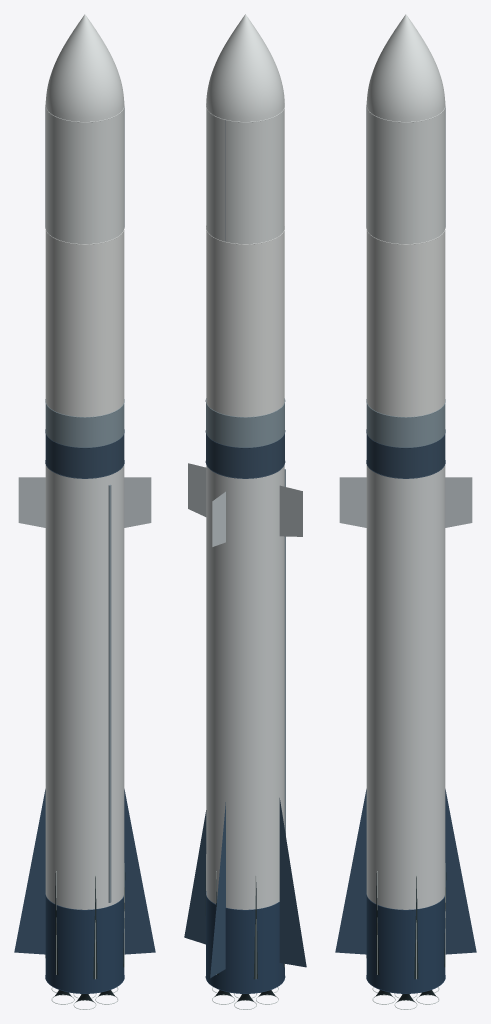
Rendered from new-glenn.glb.
3 views of the same model, side by side, from view 1: azimuth 90°, elevation 25°; view 2: azimuth 150°, elevation 25°; view 3: azimuth 270°, elevation 25° (orthographic).
Parts seen in each view (by area): view 1: thin-exterior-shell (×6), ogive-fairing, aerodynamic-strake (×2), actuated-aerodynamic-fin (×2), stage-1, engine; view 2: thin-exterior-shell (×6), ogive-fairing, aerodynamic-strake (×3), actuated-aerodynamic-fin (×3), stage-1, engine; view 3: thin-exterior-shell (×6), ogive-fairing, aerodynamic-strake (×2), actuated-aerodynamic-fin (×2), stage-1, engine.
Boxes of the visible parts, x1,y1,x2,y2 form: thin-exterior-shell (×6): (45, 108, 124, 993); ogive-fairing: (45, 14, 124, 121); aerodynamic-strake (×2): (14, 789, 155, 954); actuated-aerodynamic-fin (×2): (18, 477, 151, 527); stage-1: (45, 429, 124, 993); engine: (51, 987, 118, 1009); thin-exterior-shell (×6): (206, 108, 284, 993); ogive-fairing: (206, 14, 284, 121); aerodynamic-strake (×3): (184, 798, 306, 978); actuated-aerodynamic-fin (×3): (188, 463, 302, 546); stage-1: (205, 430, 285, 993); engine: (212, 987, 278, 1009); thin-exterior-shell (×6): (366, 108, 445, 993); ogive-fairing: (366, 14, 445, 121); aerodynamic-strake (×2): (335, 789, 476, 954); actuated-aerodynamic-fin (×2): (339, 477, 472, 527); stage-1: (366, 429, 445, 993); engine: (372, 987, 439, 1009).
Size of the model in its own units: 1.03 by 7.86 by 1.03.
